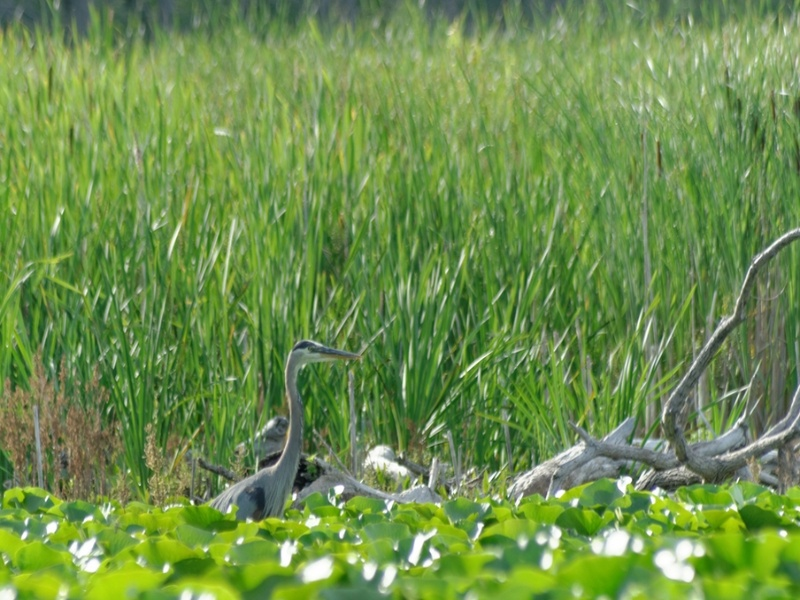heron: (182, 335, 363, 539)
